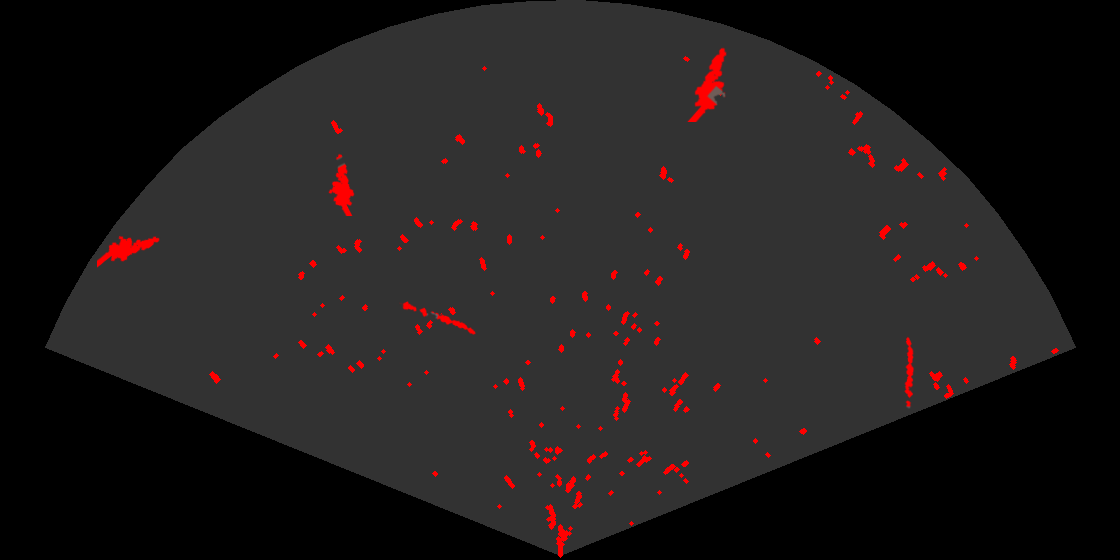chain: (399, 300, 478, 336), (903, 336, 916, 409)
frogman: (685, 46, 728, 122), (97, 234, 161, 269), (327, 152, 356, 216)
